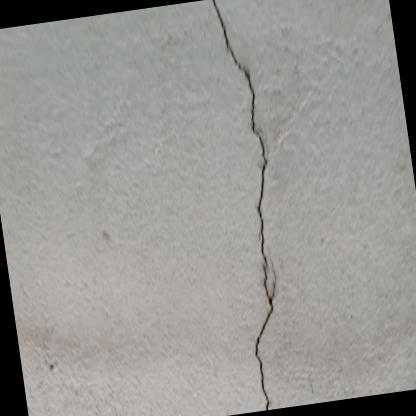crack: (212, 0, 272, 410)
